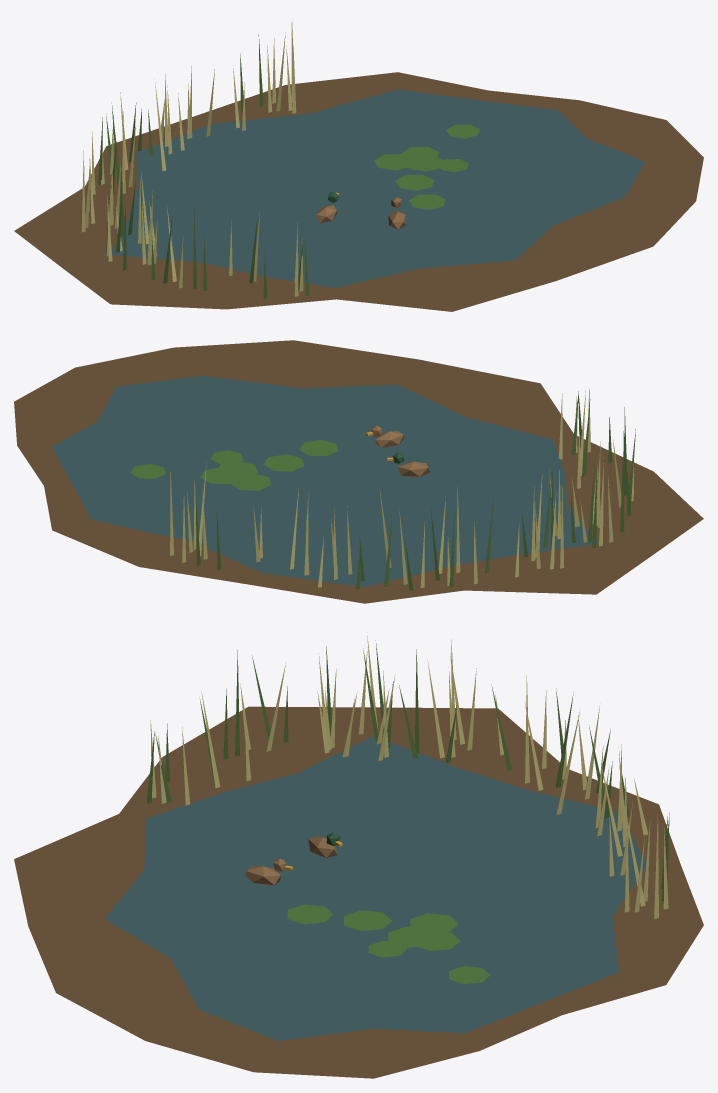
Rendered from lwf_farm_pond_v1.glb.
The picture shows the model from 3 angles, top to bottom: view 1: azimuth 30°, elevation 25°; view 2: azimuth 150°, elevation 25°; view 3: azimuth 270°, elevation 25°; orthographic projection. The views are drawn at different scales.
Parts seen in each view (by area): view 1: PondWater, PondMargin, Ducks; view 2: PondWater, PondMargin, Ducks; view 3: PondWater, PondMargin, Ducks.
Boxes of the visible parts, x1,y1,x2,y2 form: PondWater: [112, 89, 645, 287]; PondMargin: [14, 21, 703, 311]; Ducks: [316, 192, 406, 229]; PondWater: [52, 375, 598, 586]; PondMargin: [14, 340, 703, 603]; Ducks: [366, 425, 430, 477]; PondWater: [105, 736, 646, 1040]; PondMargin: [14, 636, 703, 1078]; Ducks: [245, 832, 342, 885].
Bounding box in the file's own units: 10.35 × 1.49 × 8.11.
2 materials, 1 textured.
